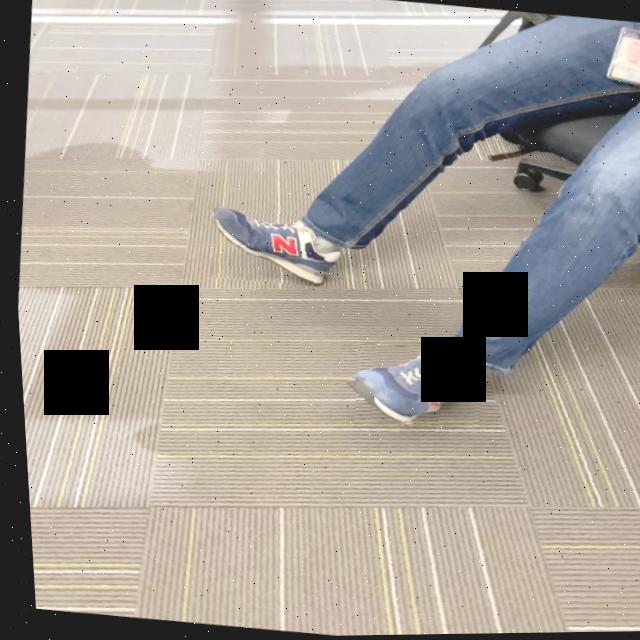shoe: (210, 209, 342, 287), (351, 350, 477, 424)
